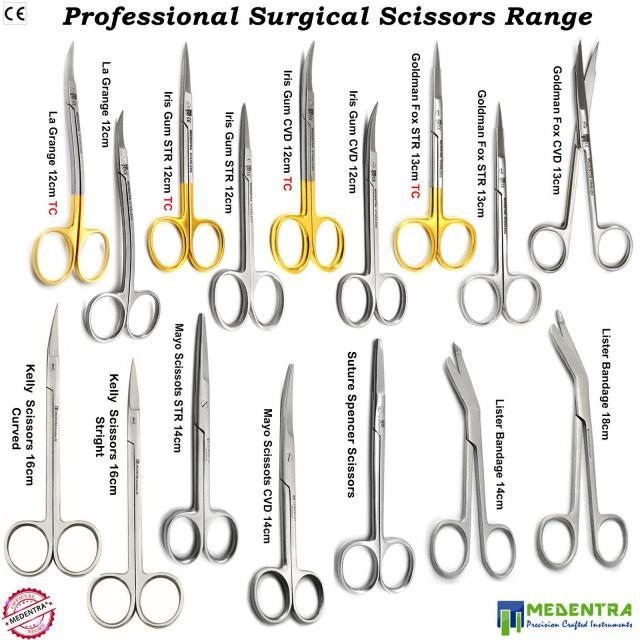scissors: (85, 356, 184, 630), (4, 302, 102, 578), (534, 305, 629, 570), (528, 39, 635, 274), (426, 340, 517, 581), (389, 37, 481, 272), (247, 361, 327, 625), (334, 334, 414, 594), (160, 310, 239, 567), (30, 38, 112, 285), (80, 108, 162, 342), (143, 38, 224, 273), (459, 99, 543, 325), (266, 38, 344, 273), (207, 98, 284, 330), (335, 99, 407, 328)
